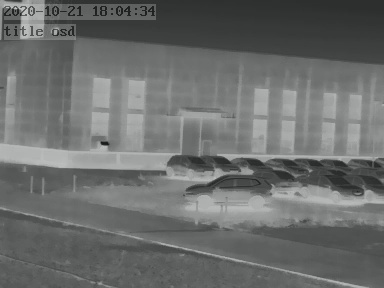vehicle: (185, 176, 269, 209), (301, 174, 362, 202), (164, 153, 214, 178), (265, 173, 299, 201), (355, 173, 384, 204), (201, 153, 240, 175), (231, 155, 268, 172), (264, 156, 301, 172), (347, 156, 379, 170), (317, 156, 347, 170), (296, 156, 324, 169)
